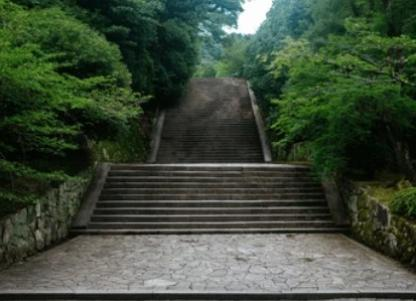stair: (98, 163, 334, 235)
